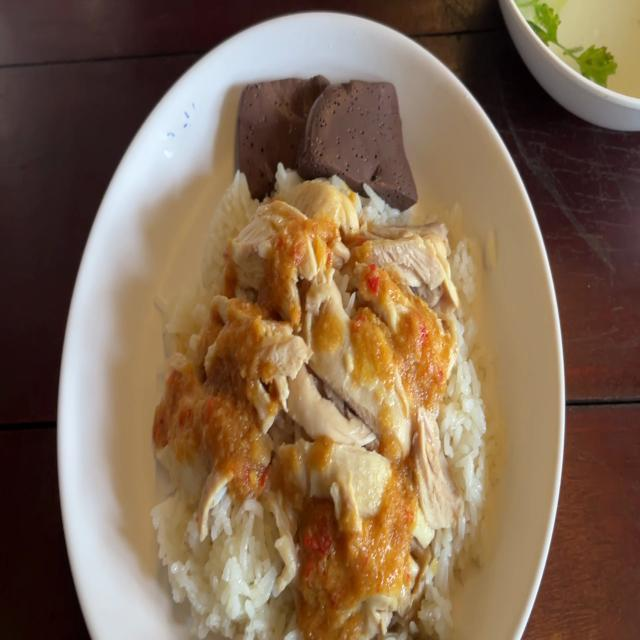boiled_chicken: (186, 205, 435, 577)
boiled_chicken_blood_jelly: (312, 72, 415, 196), (230, 74, 329, 178)
chicken_rice: (136, 73, 507, 640)
